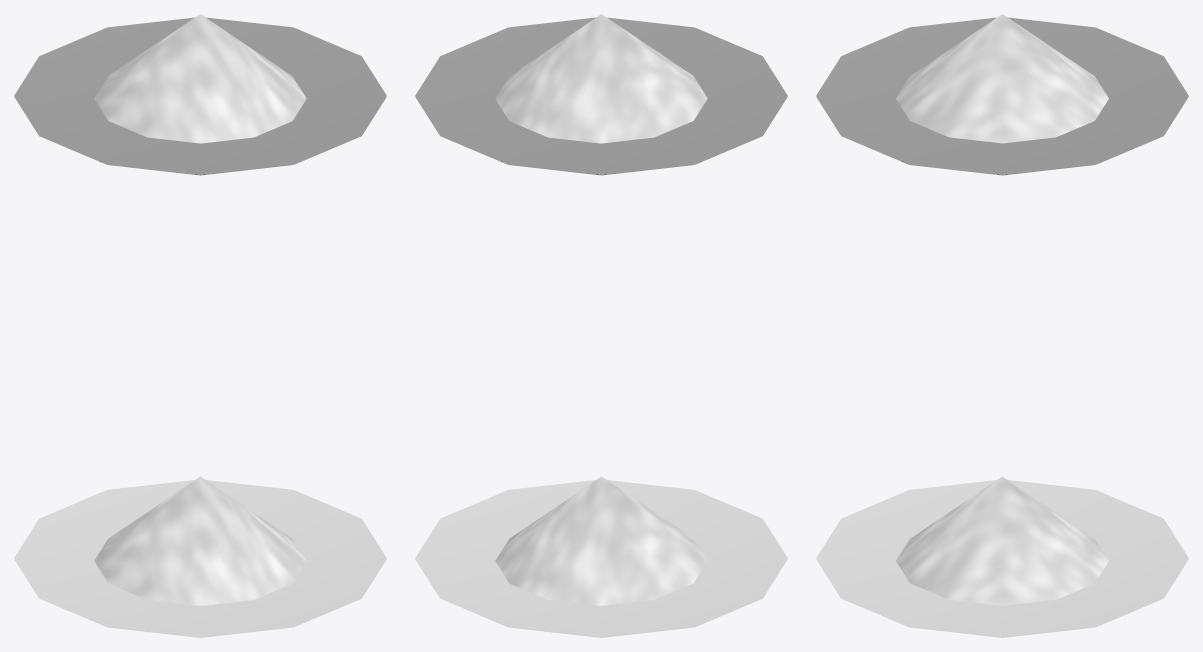
The model's file is statch.fbx.
The picture shows the model from 3 angles, left to right: view 1: azimuth 30°, elevation 25°; view 2: azimuth 150°, elevation 25°; view 3: azimuth 270°, elevation 25°; orthographic projection.
Visible parts, largest first — view 1: koh_sloution1, koh_sloution; view 2: koh_sloution1, koh_sloution; view 3: koh_sloution, koh_sloution1.
Part boxes in pixels (bbox=[...]): koh_sloution1: bbox=[14, 14, 386, 175]; koh_sloution: bbox=[14, 476, 386, 637]; koh_sloution1: bbox=[415, 14, 787, 175]; koh_sloution: bbox=[415, 476, 787, 637]; koh_sloution: bbox=[816, 476, 1188, 637]; koh_sloution1: bbox=[816, 14, 1188, 175].
Size of what is drawn, in the model's own units: 8.87 by 14.61 by 8.87.
Materials: 3 (1 with a texture image).
